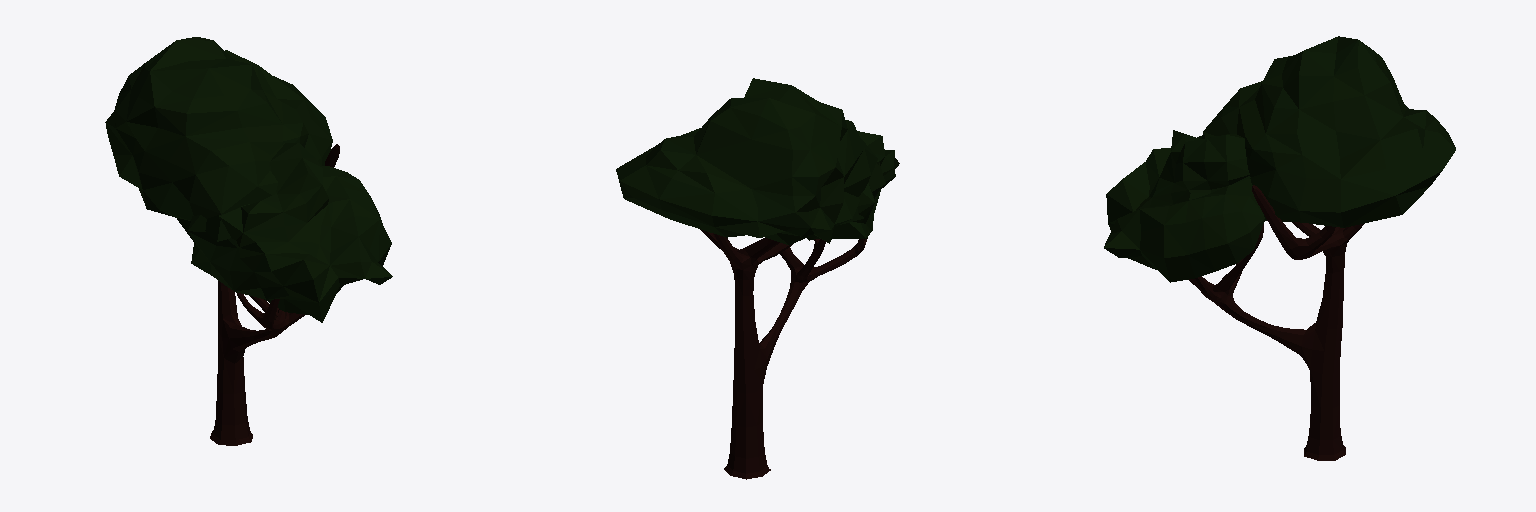
Rendered from CommonTree_2.obj.
3 renders of one model, left to right at view 1: azimuth 30°, elevation 25°; view 2: azimuth 150°, elevation 25°; view 3: azimuth 270°, elevation 25°, orthographic.
Parts seen in each view (by area): view 1: CommonTree_2_Cube.036; view 2: CommonTree_2_Cube.036; view 3: CommonTree_2_Cube.036.
Part boxes in pixels (bbox=[...]): CommonTree_2_Cube.036: bbox=[105, 37, 392, 445]; CommonTree_2_Cube.036: bbox=[616, 78, 899, 479]; CommonTree_2_Cube.036: bbox=[1104, 36, 1455, 460].
Size of the model in its own units: 1.66 by 3.12 by 2.54.